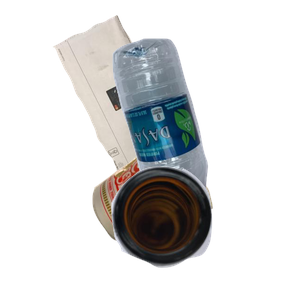glass: (109, 164, 300, 300)
paper: (51, 13, 230, 186)
plastic: (110, 36, 300, 216)
trash: (90, 129, 295, 300)
